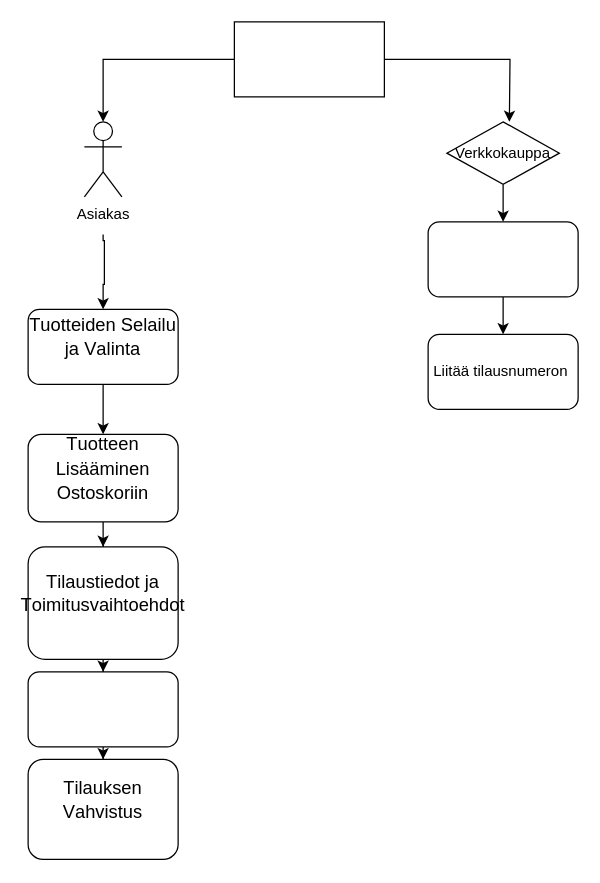
The diagram is 600 pixels wide and 883 high, and some of its shapes have lost their labels. The shapes that lost their labels are listed below. From the top down, each one's box as (x1, y1, x2, y2) in pixels, then its label:
(233, 21, 384, 97): Verkkokauppa.com
(427, 221, 578, 297): Luo tilausnumeron tietokantaan
(27, 671, 178, 747): Maksu
